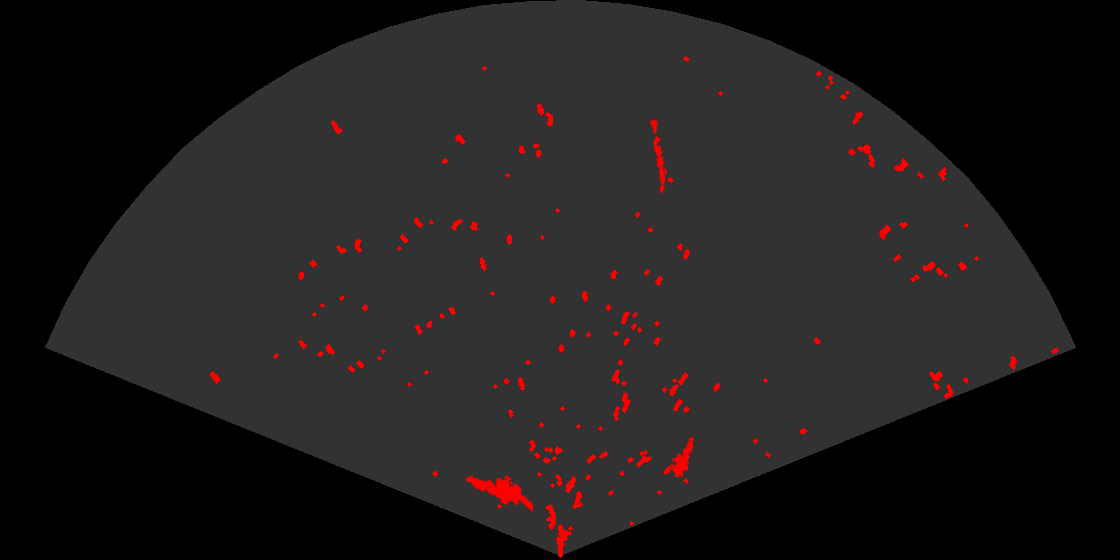chain: (648, 116, 667, 195)
frogman: (464, 474, 533, 514), (670, 435, 696, 477)
